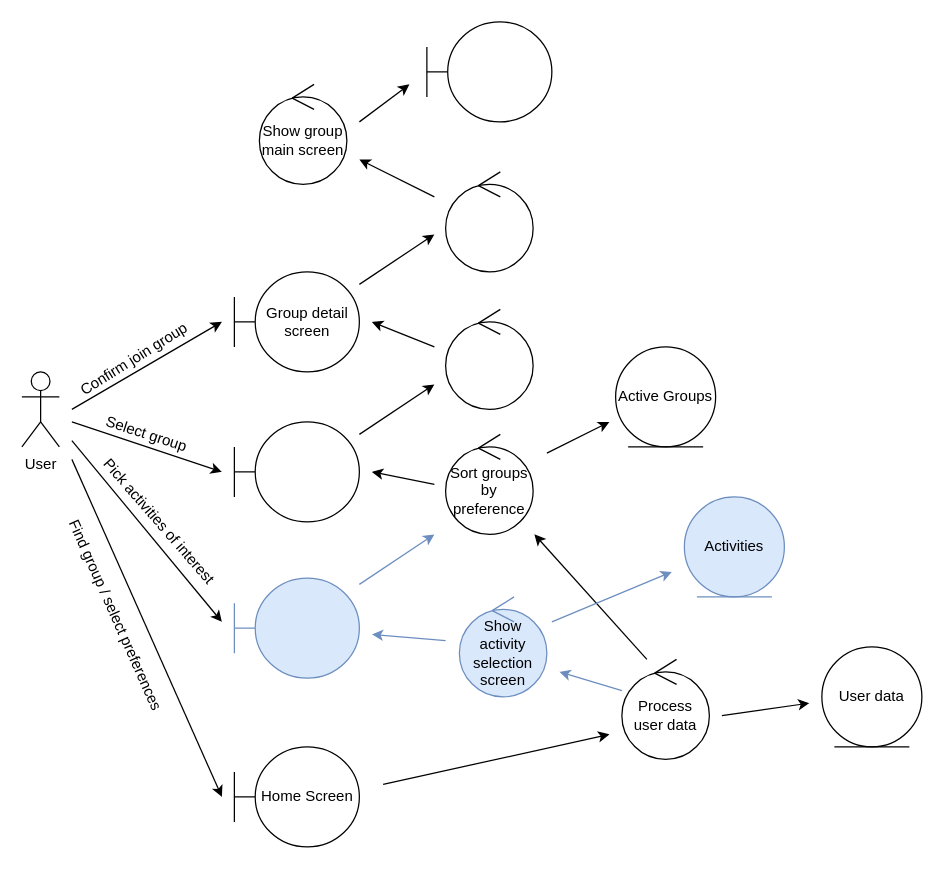
Image size: 944x869. Some labels were removed from this diagram. Here are the shapes that lost their labels. From the top down, the box of each, then its label:
(426, 21, 552, 122): Group main screen
(444, 171, 533, 272): Add user to group
(444, 308, 533, 409): Show group details
(233, 421, 359, 522): Groups selection screen
(233, 577, 359, 678): Activity selection screen
